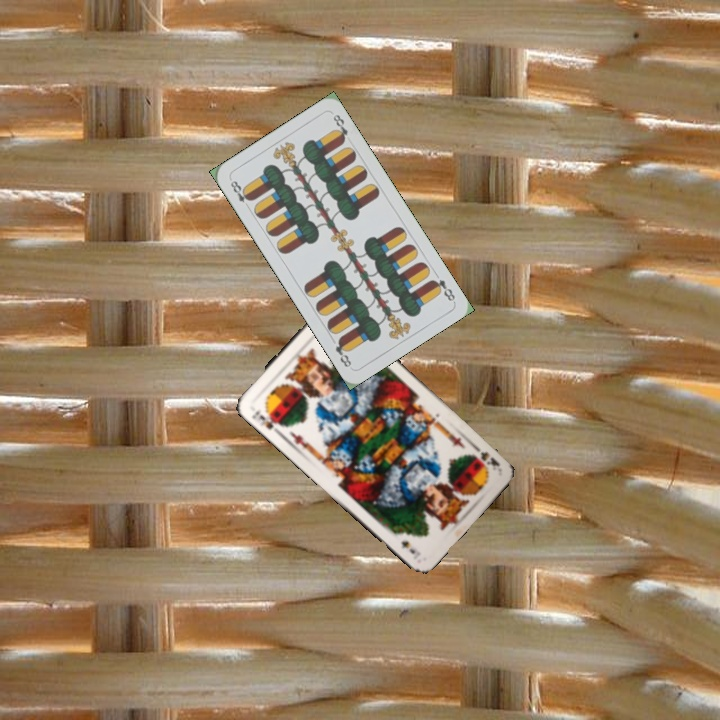E8: (226, 175, 254, 212), (427, 275, 458, 304)
SK: (468, 439, 502, 469), (247, 406, 285, 432)
